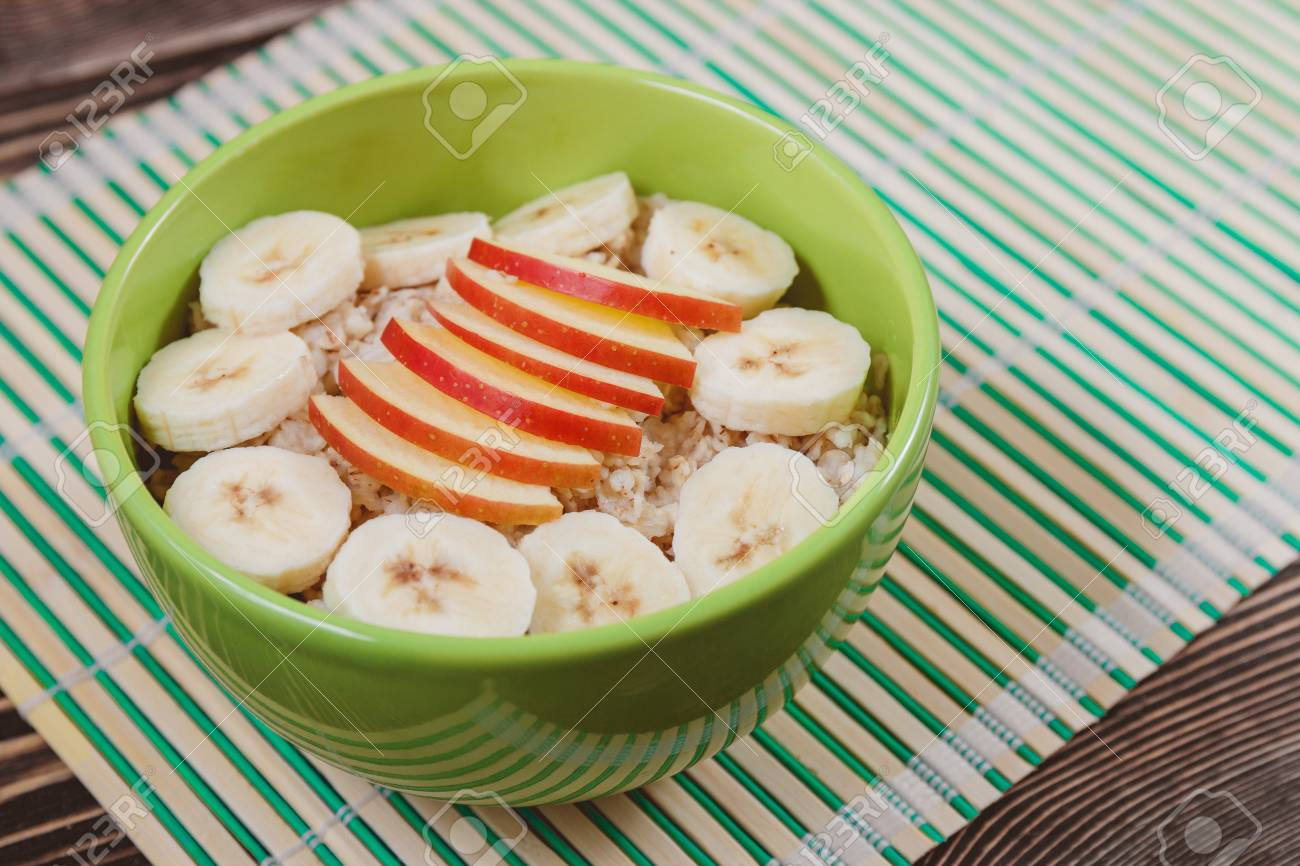banana: (159, 449, 354, 595), (320, 515, 537, 639), (692, 305, 876, 449), (674, 443, 839, 596), (691, 308, 870, 435), (126, 329, 313, 449), (517, 509, 694, 632), (202, 208, 362, 331), (644, 205, 795, 312), (490, 173, 639, 250), (355, 210, 498, 285)
